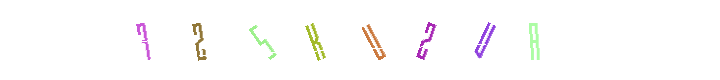5: (264, 0, 344, 80)
7: (158, 0, 238, 80)
A: (415, 0, 495, 80)
K: (274, 0, 354, 80)
U: (320, 0, 400, 80)
V: (384, 0, 464, 80)
Z: (207, 0, 287, 80), (333, 0, 413, 80)
